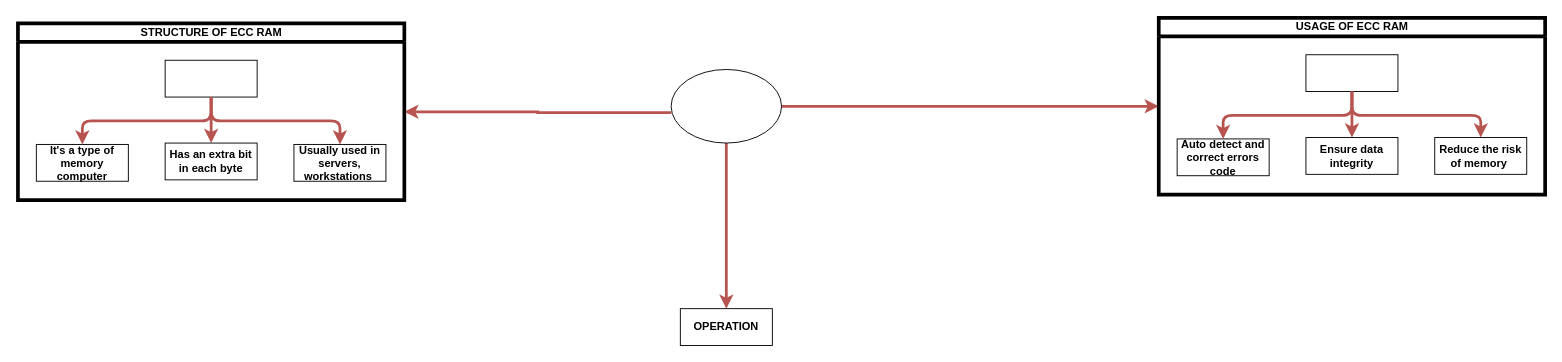
Some shapes in this 1562 by 362 pixel diagram are drawn without their labels. The centre of each missing label's shape, as x and y in pixels:
ECC RAM: the point at 726,106
STRUCTURE: the point at 210,78
USAGE: the point at 1351,73
